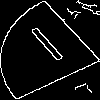I: (25, 25, 76, 71)
